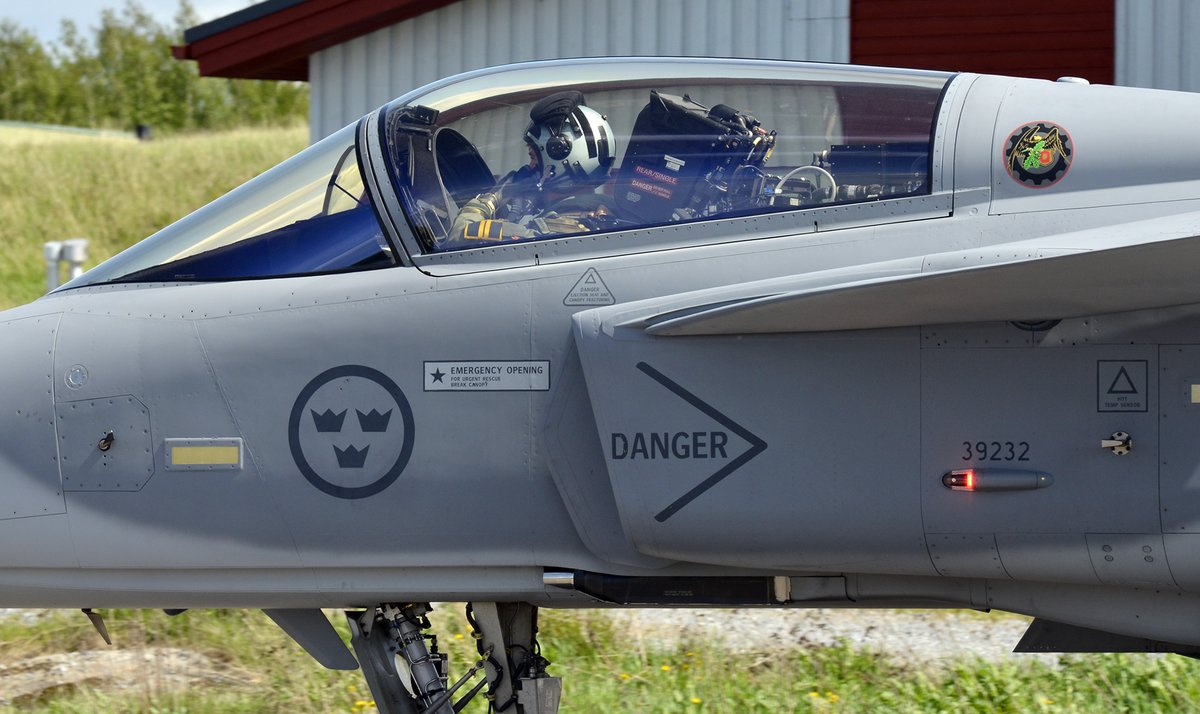JAS39: (1, 54, 1200, 714)
